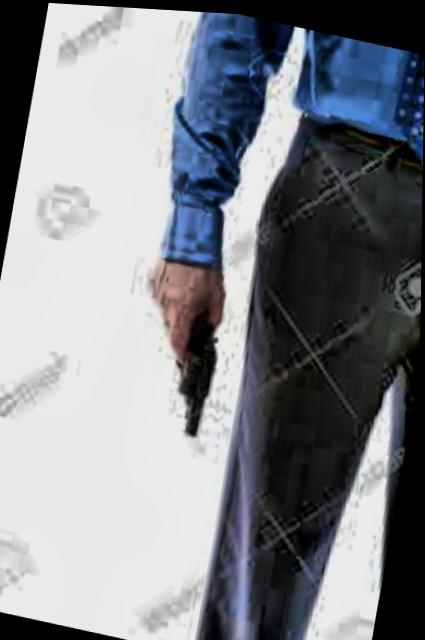pistol: (148, 290, 231, 435)
